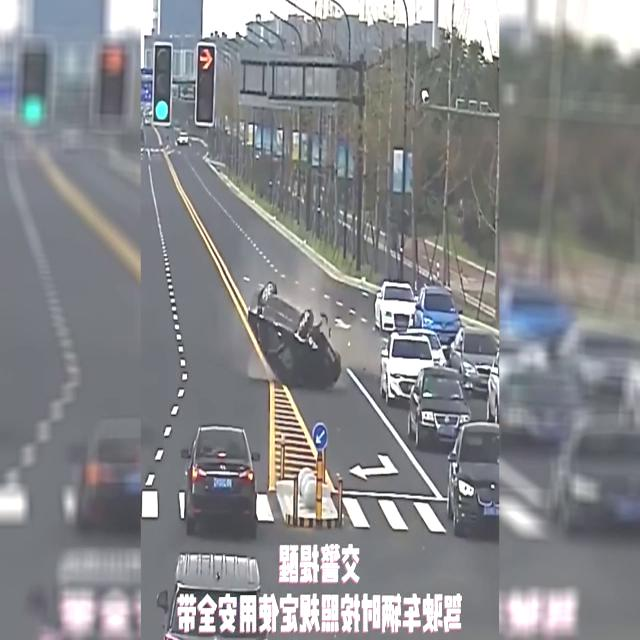accident: (244, 278, 354, 396)
non-accident: (408, 369, 498, 541), (377, 334, 468, 456), (377, 326, 499, 406), (374, 282, 464, 346)
